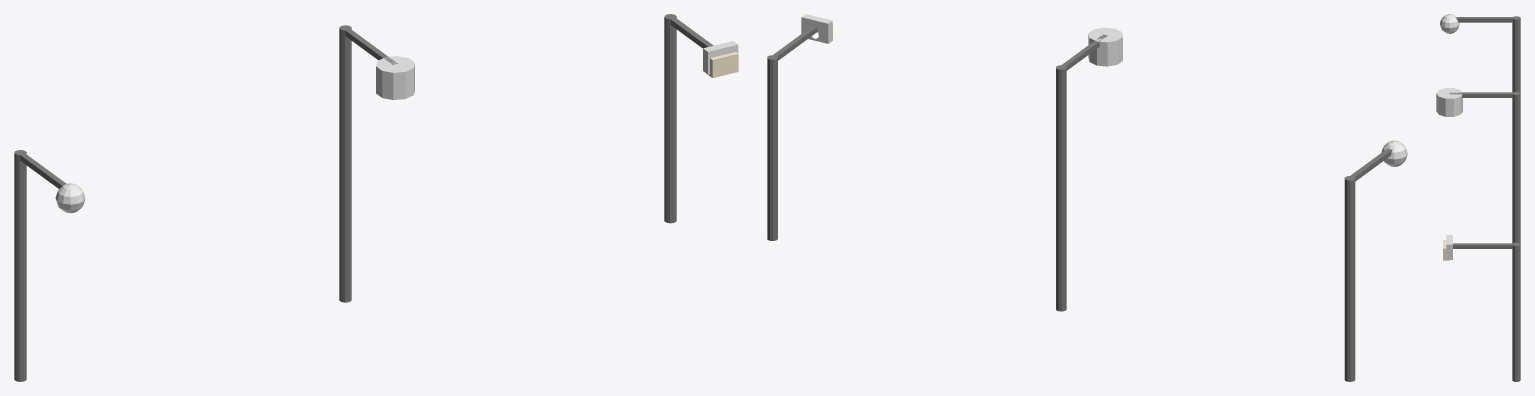
File: road_props.glb
The picture shows the model from 3 angles, left to right: view 1: azimuth 30°, elevation 25°; view 2: azimuth 150°, elevation 25°; view 3: azimuth 270°, elevation 25°; orthographic projection. The views are drawn at different scales.
Parts seen in each view (by area): view 1: RoadProps; view 2: RoadProps; view 3: RoadProps.
Boxes of the visible parts, x1=… form: RoadProps: x1=14, y1=14, x2=738, y2=381; RoadProps: x1=767, y1=14, x2=1407, y2=381; RoadProps: x1=1436, y1=14, x2=1520, y2=381.
Bounding box in the file's own units: 3.13 × 1.2 × 0.505.
